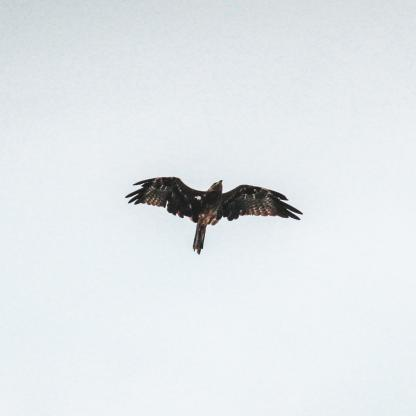bird: (128, 176, 299, 256)
